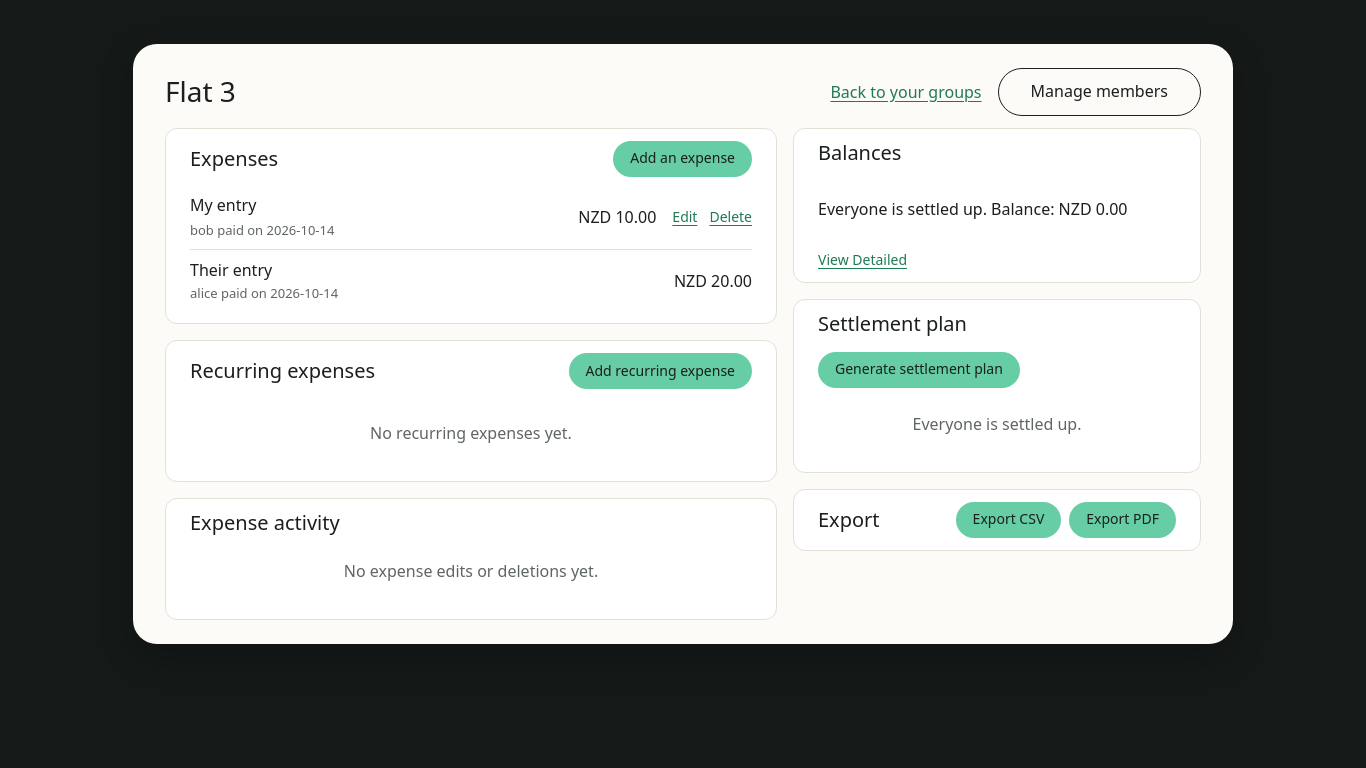
it: keeps the expense visible when deletion is rejected and displays the server error
Click the button with aria-label "Delete My entry" at (731, 217), box [709,193,752,241]
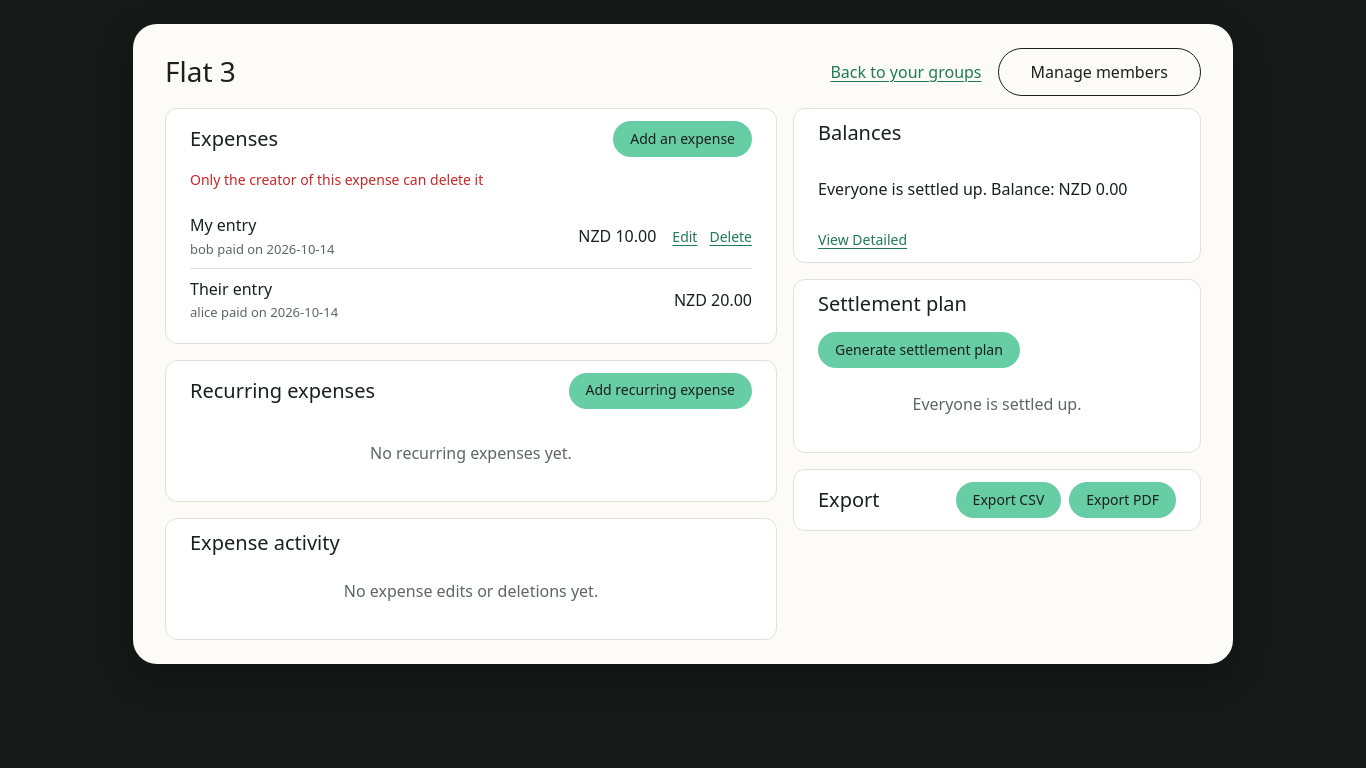
Expected: the text "My entry" is shown, [190,214,256,236]
Now the message shows "Only the creator", box [190,170,483,189]
